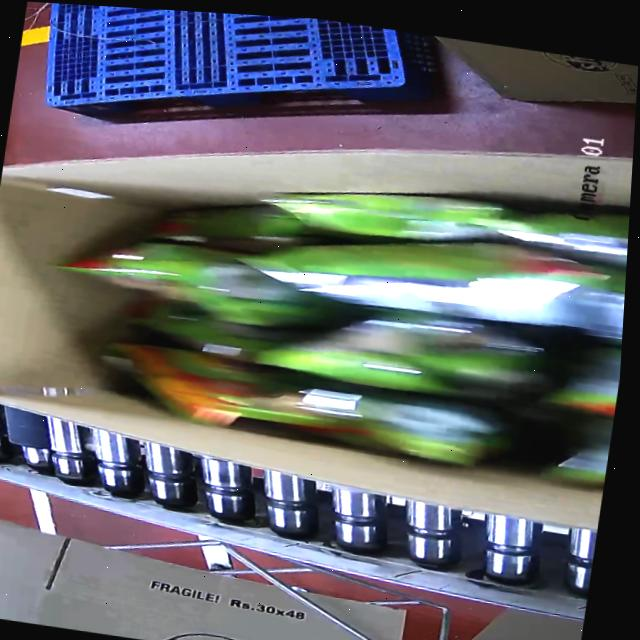YOGURT_HERB: (92, 152, 631, 475)
